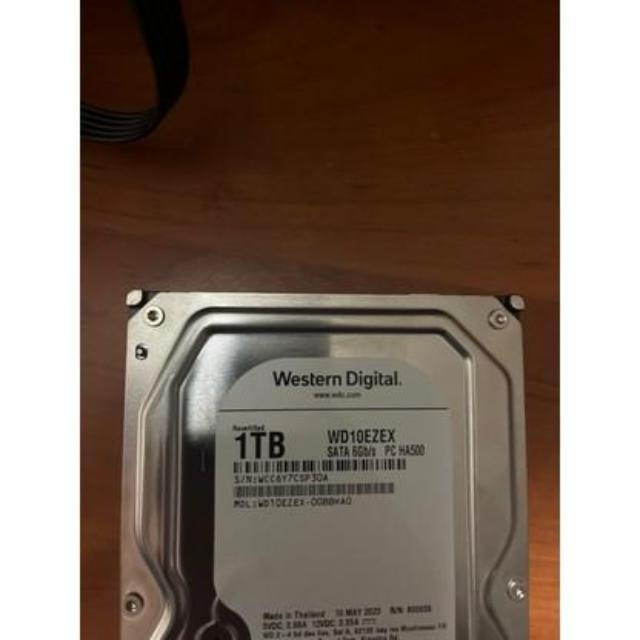DISK: (121, 286, 526, 640)
